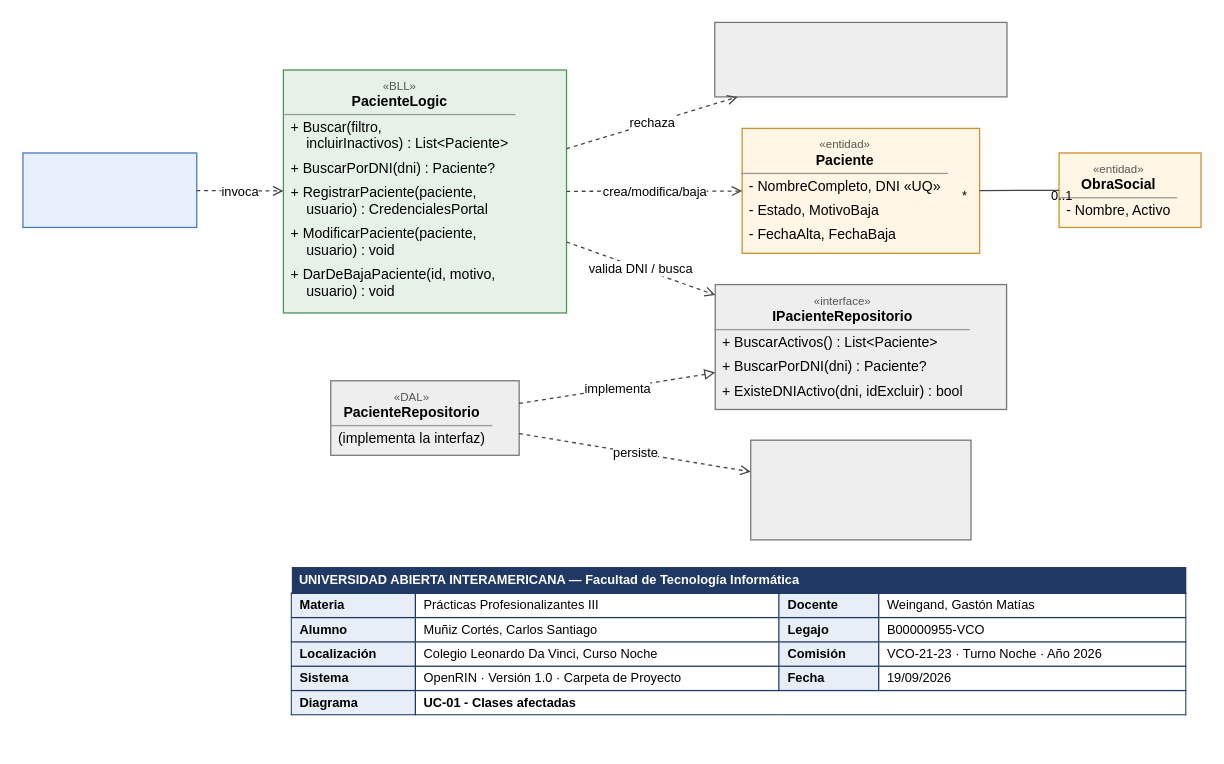
This 1224x764 diagram has some shape labels left out. Here are the shapes that lost their labels. From the top down, the centre of each, then its label:
At (860,59): "«static» ReglasNegocio + Rechazar(errores, contexto, usuario)".
At (109,189): "«Form» PacienteEditorForm (alta / edición / baja)".
At (860,489): "«EF Core» NegocioDbContext + SaveChanges() : int (firma DVH/DVV y audita)".
